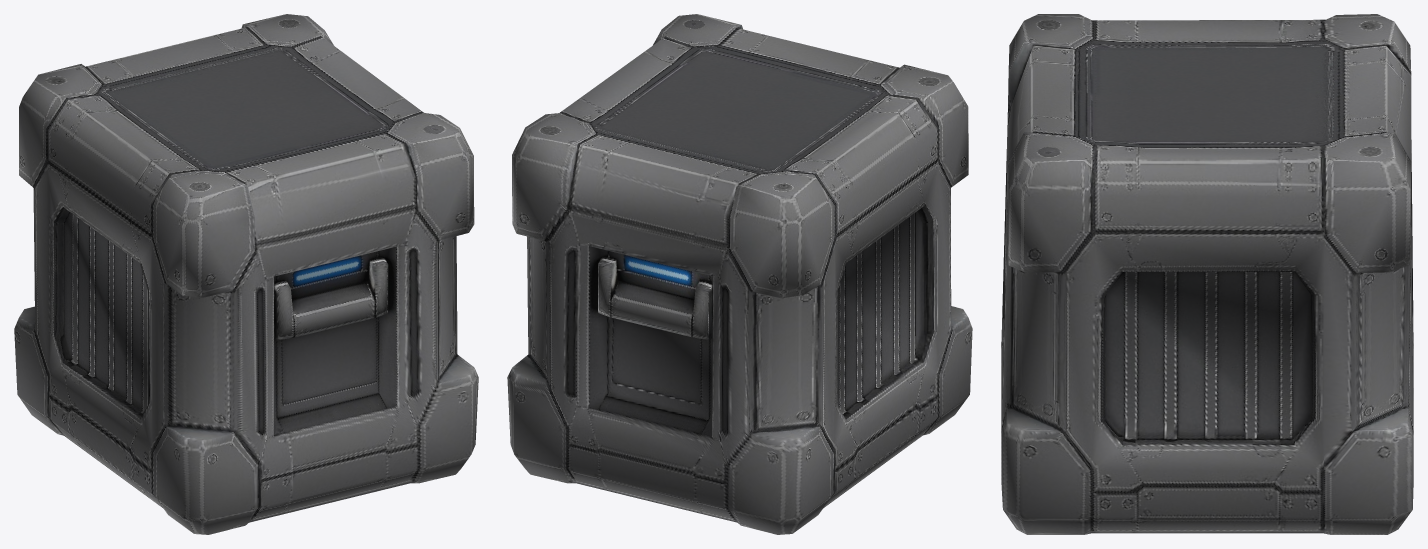
The model's file is crate_model.glb.
3 views of the same model, side by side, from view 1: azimuth 30°, elevation 25°; view 2: azimuth 150°, elevation 25°; view 3: azimuth 270°, elevation 25° (orthographic). The views are drawn at different scales.
Visible parts, largest first — view 1: tripo_node_eb8f09d7-06f8-4152-813e-84fa397311dd; view 2: tripo_node_eb8f09d7-06f8-4152-813e-84fa397311dd; view 3: tripo_node_eb8f09d7-06f8-4152-813e-84fa397311dd.
Part boxes in pixels (left/top/right/bottom): tripo_node_eb8f09d7-06f8-4152-813e-84fa397311dd: left=14, top=14, right=478, bottom=534; tripo_node_eb8f09d7-06f8-4152-813e-84fa397311dd: left=507, top=14, right=972, bottom=534; tripo_node_eb8f09d7-06f8-4152-813e-84fa397311dd: left=1001, top=14, right=1413, bottom=534.
Size of the model in its own units: 0.9277 by 0.998 by 0.998.
1 material, 1 textured.
